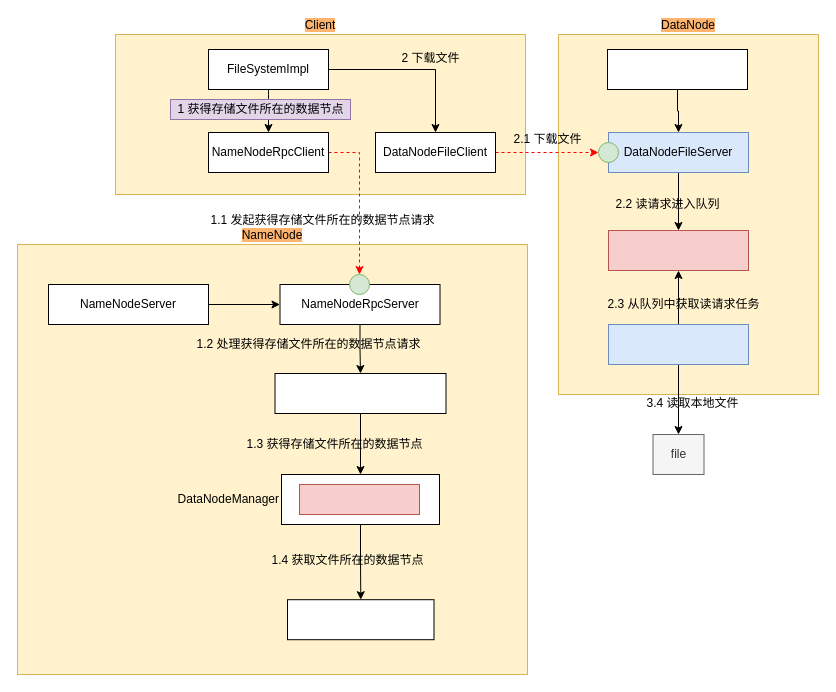
This 836x692 diagram has some shape labels left out. The box of each missing label's shape, as (x1, y1, x2, y2) in pixels:
DataNodeSelectorForFile: (286, 599, 434, 640)
DataNodeServer: (606, 48, 748, 90)
LinkedBlockingQueue: (608, 230, 748, 270)
NameNodeRpcService: (274, 372, 446, 414)
Worker: (608, 324, 748, 364)
每个文件对应的副本所在的数据节点: (298, 484, 420, 514)
